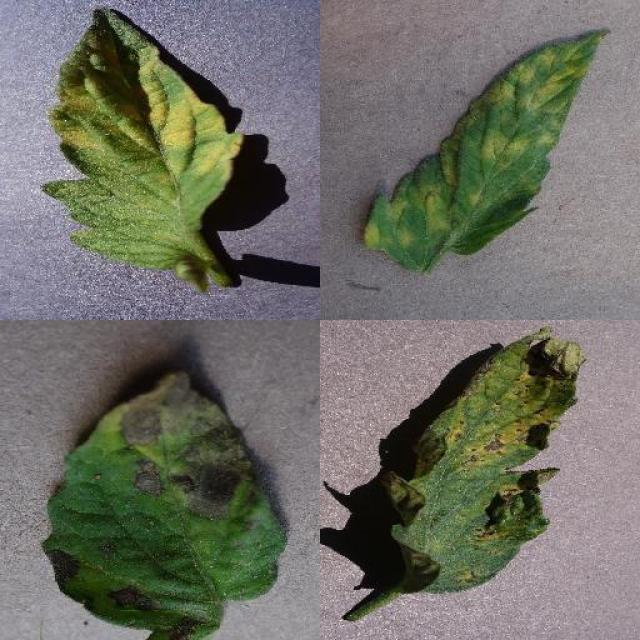Early Blight: (41, 370, 286, 640)
Septoria: (392, 326, 588, 595)
